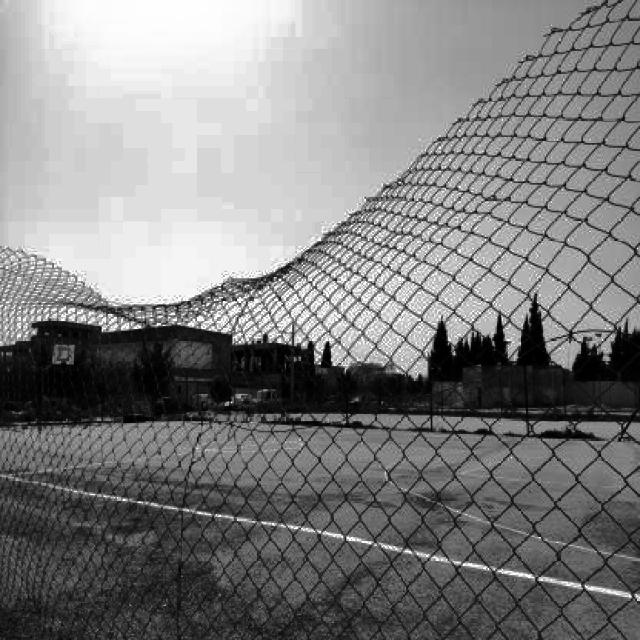anomaly-fence: (0, 20, 560, 337)
